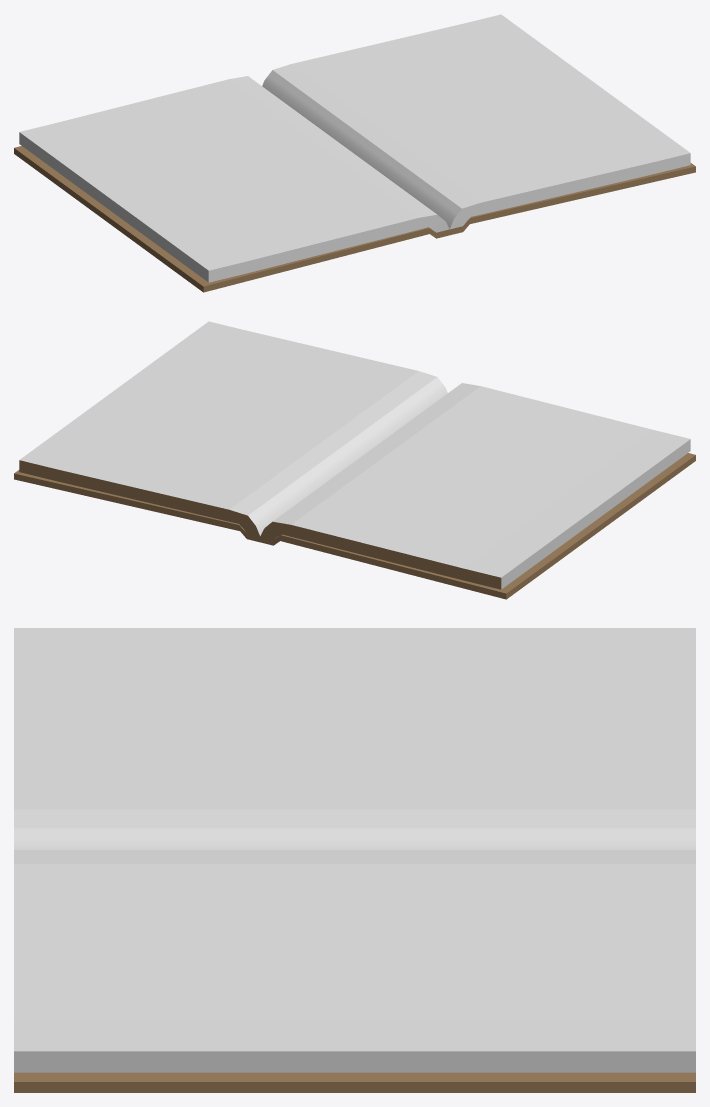
The model's file is almanac_open_ud.fbx.
3 views of the same model, one above another, from view 1: azimuth 30°, elevation 25°; view 2: azimuth 150°, elevation 25°; view 3: azimuth 270°, elevation 25° (orthographic). The views are drawn at different scales.
Visible parts, largest first — view 1: Cube.001; view 2: Cube.001; view 3: Cube.001.
Boxes of the visible parts, box(x1,y1,x2,y2) form: Cube.001: box(14, 14, 695, 292); Cube.001: box(14, 321, 695, 599); Cube.001: box(14, 628, 695, 1092).
Bounding box in the file's own units: 300 × 14.86 × 200.
